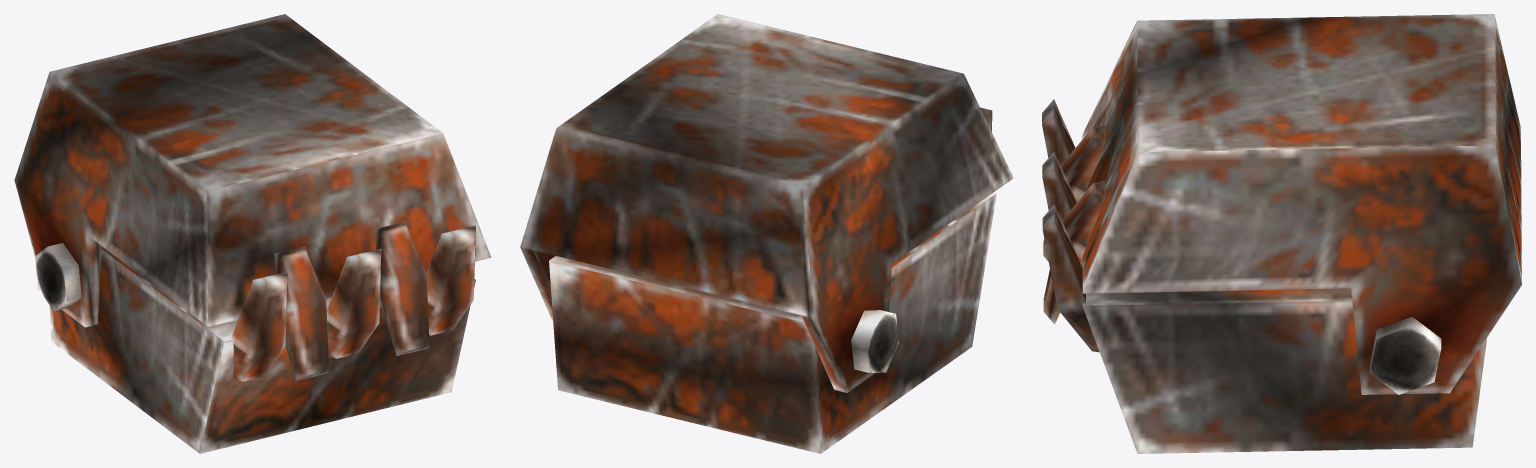
File: Robot01.Head2.fbx
3 renders of one model, left to right at view 1: azimuth 30°, elevation 25°; view 2: azimuth 150°, elevation 25°; view 3: azimuth 270°, elevation 25°, orthographic. The views are drawn at different scales.
Visible parts, largest first — view 1: Robot01.Head2; view 2: Robot01.Head2; view 3: Robot01.Head2.
Boxes of the visible parts, left/top/right/bottom form: Robot01.Head2: left=14, top=14, right=491, bottom=453; Robot01.Head2: left=520, top=14, right=1013, bottom=453; Robot01.Head2: left=1042, top=14, right=1521, bottom=453.
Size of the model in its own units: 41.06 by 33.13 by 47.52.
